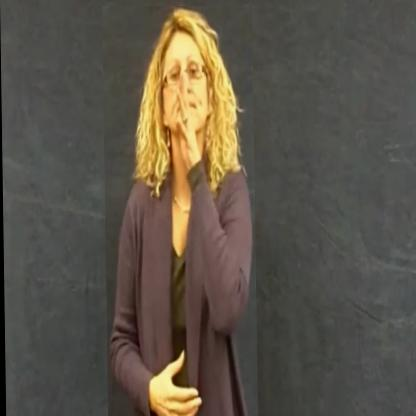Talk: (102, 6, 257, 416)
